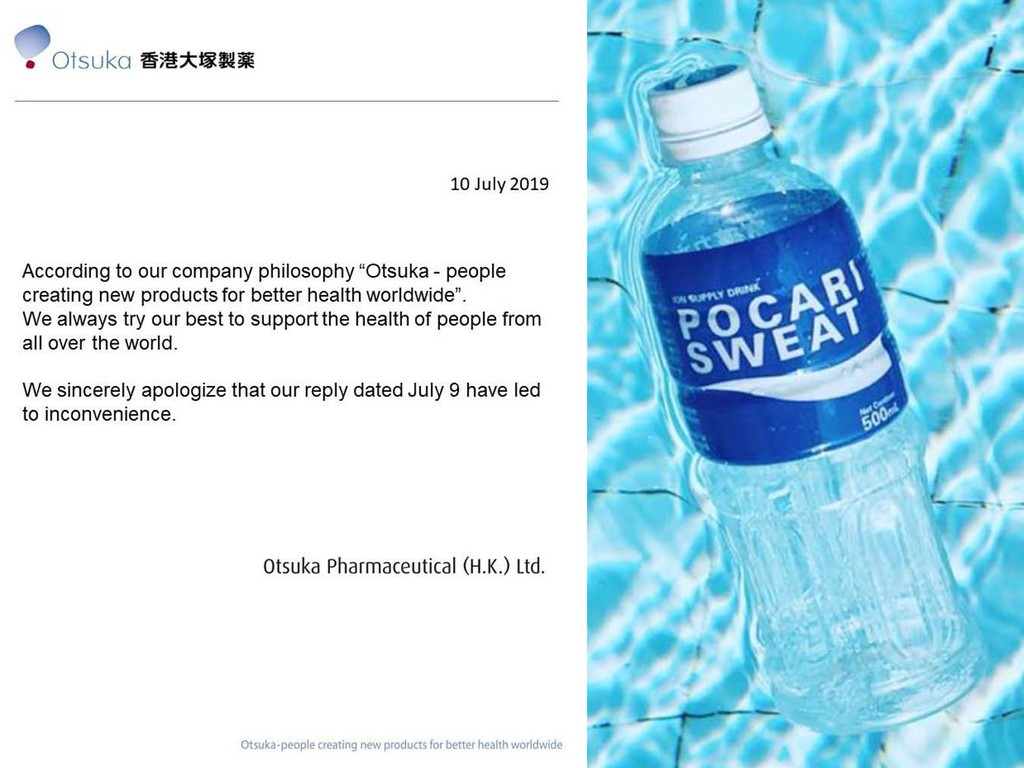POCARI SWEAT: (635, 52, 984, 720)
